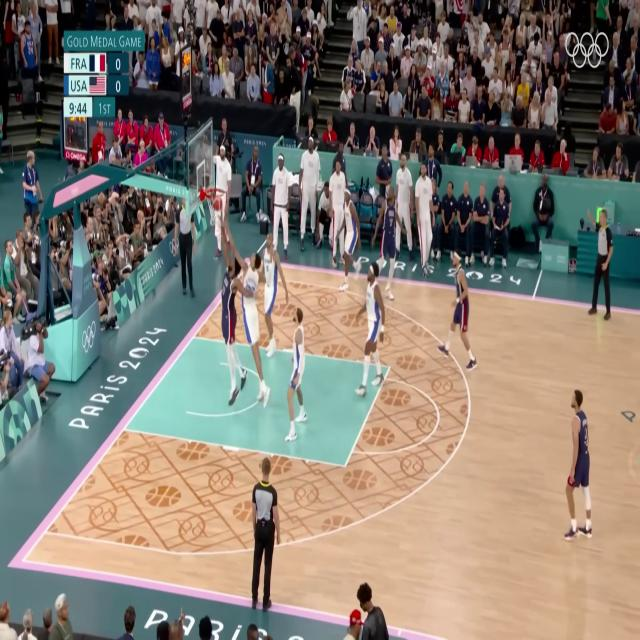ball-handler: (216, 195, 245, 396)
player: (232, 235, 270, 417), (564, 389, 600, 553), (356, 265, 390, 399), (372, 189, 403, 299), (256, 229, 282, 358), (448, 249, 474, 372), (290, 302, 312, 441), (336, 192, 358, 284)
